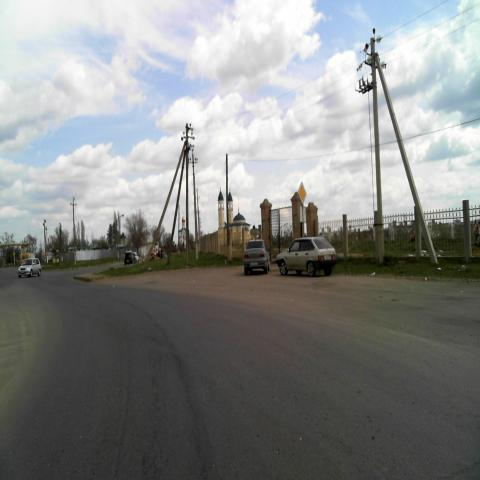2_1: (298, 180, 307, 204)
